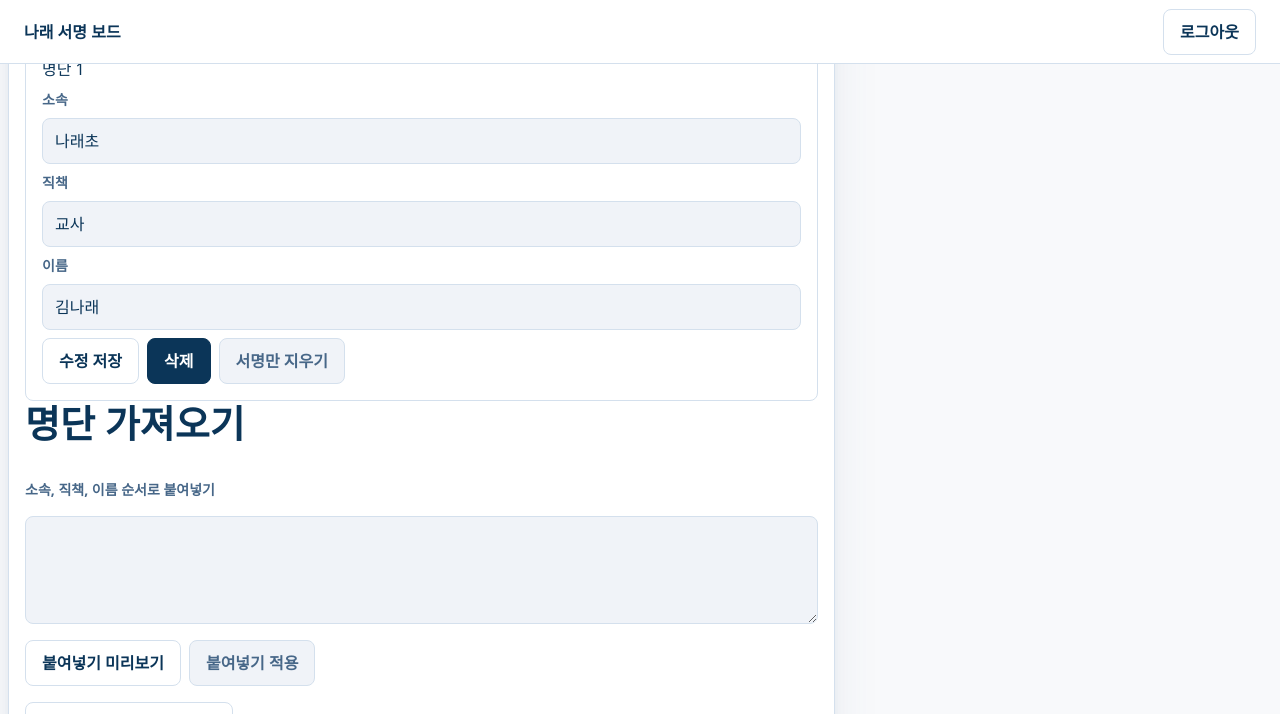
Test: administrator board routes › deletes a roster row only after confirmation
The image size is (1280, 714).
(page scrolled)
Expected: the field showing "김나래" is shown, [42,284,801,330]
Click the button "삭제" at (179, 361), box [147,338,210,384]
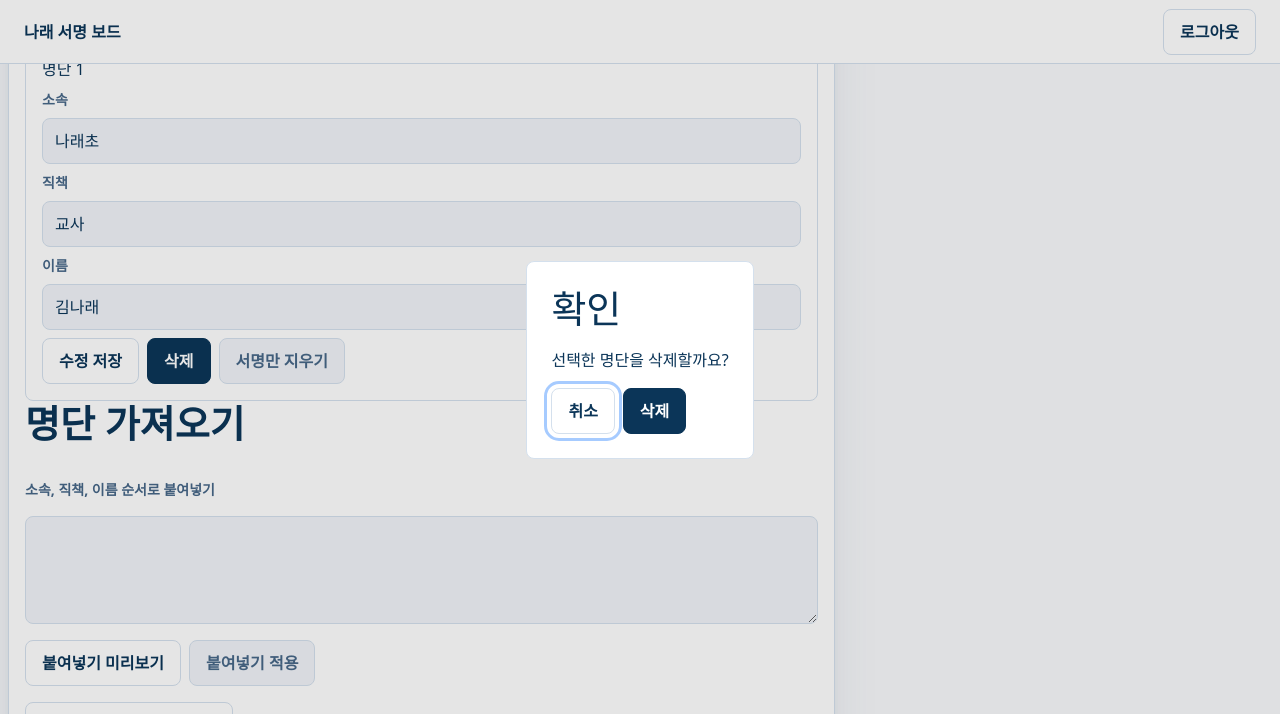
Expected: the dialog "확인" shows "선택한 명단을 삭제할까요?", [551,349,729,371]
Click the button "삭제" at (655, 411), box [623,388,686,434]
(page scrolled)
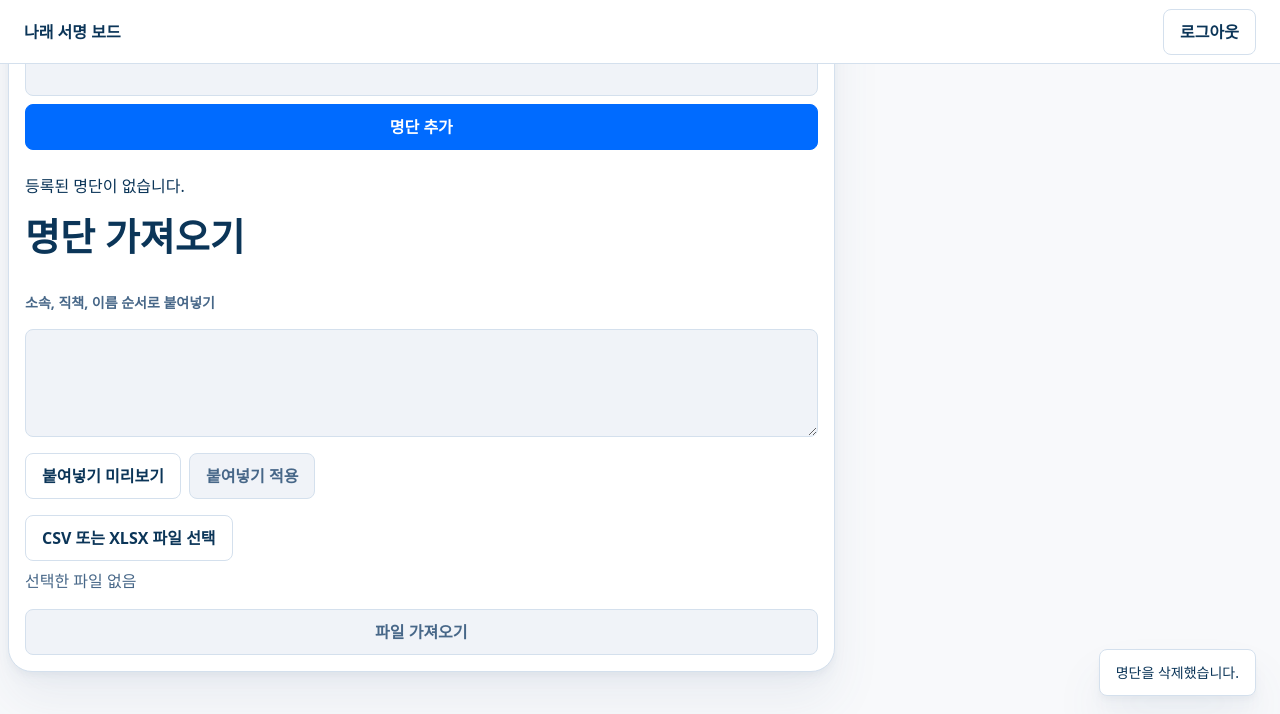
Expected: the text "등록된 명단이 없습니다." is shown, [25,175,185,197]
